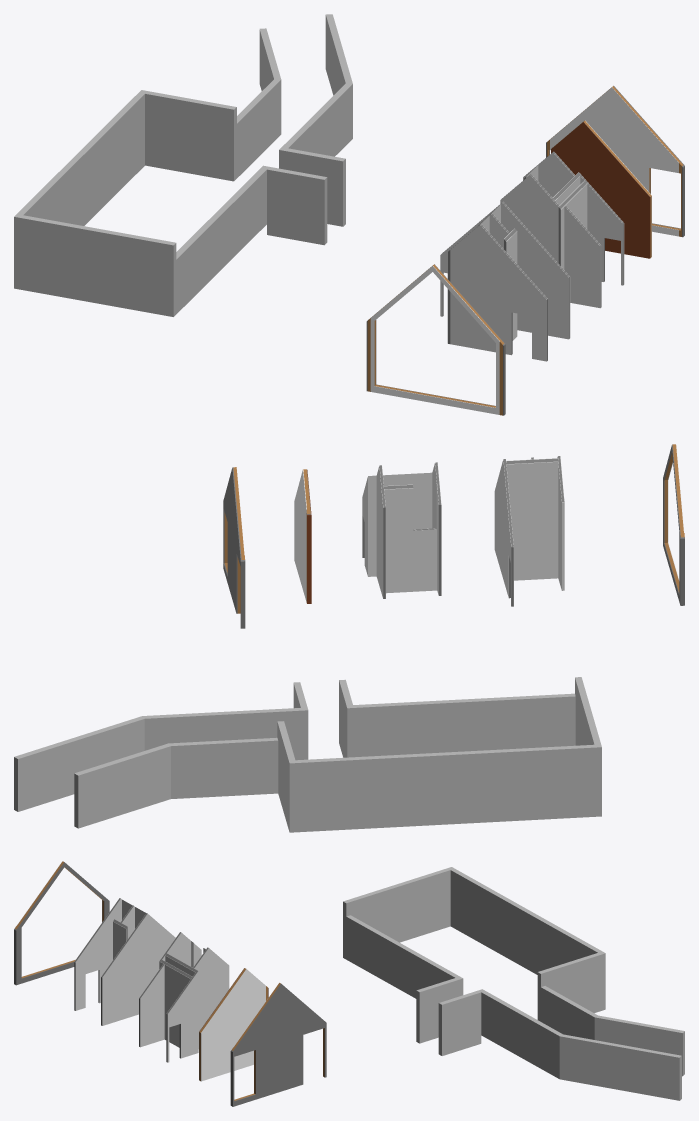
File: rac_basic_sample_project_Level_2_IfcWallStandardCase.dae
3 views of the same model, one above another, from view 1: azimuth 30°, elevation 25°; view 2: azimuth 150°, elevation 25°; view 3: azimuth 270°, elevation 25° (orthographic). The views are drawn at different scales.
Visible parts, largest first — view 1: 3_T6_Ndub6XO_ef59N4DQX, 0lntrd6l1AGwfcnKJK5qmF, 3_T6_Ndub6XO_ef59N4DRY, 3_T6_Ndub6XO_ef59N4DOF, 28i3i5WDD8Ju0YHnzXOzdu, 2WEjrPJHb8ux9RBvH$Iq0S, 3lLx0gNe59vvExhby0Bfew, 0lntrd6l1AGwfcnKJK5r28, 38BWtPCUX0VgAKmmGnoLFm, 39NeMDaWPEh9g8$CxWwg0v, 2WEjrPJHb8ux9RBvH$Iq3g, 2wm6PO6TX9IxXwLP21Hz10 (+8 smaller); view 2: 3_T6_Ndub6XO_ef59N4DRY, 2WEjrPJHb8ux9RBvH$Iq0S, 2WEjrPJHb8ux9RBvH$IqPC, 2WEjrPJHb8ux9RBvH$IqSV, 1jq3WIaE92UPTHNxmrWm6f, 2WEjrPJHb8ux9RBvH$IqQR, 2WEjrPJHb8ux9RBvH$Iq3g, 2wm6PO6TX9IxXwLP21Hyl3, 3lLx0gNe59vvExhby0Bfew, 0nbT7BoYn1WRd0KTefRTuG, 0lntrd6l1AGwfcnKJK5r28, 28i3i5WDD8Ju0YHnzXOzdu (+8 smaller); view 3: 3_T6_Ndub6XO_ef59N4DRY, 3lLx0gNe59vvExhby0Bfew, 3_T6_Ndub6XO_ef59N4DQX, 2WEjrPJHb8ux9RBvH$IqSV, 0lntrd6l1AGwfcnKJK5r28, 2WEjrPJHb8ux9RBvH$Iq0S, 28i3i5WDD8Ju0YHnzXOzdu, 2WEjrPJHb8ux9RBvH$Iq3g, 3_T6_Ndub6XO_ef59N4DOF, 38BWtPCUX0VgAKmmGnoLCN, 0lntrd6l1AGwfcnKJK5qmF, 2WEjrPJHb8ux9RBvH$IqPC (+9 smaller).
Part boxes in pixels (<box>): 3_T6_Ndub6XO_ef59N4DQX: <box>14,214,176,316</box>; 0lntrd6l1AGwfcnKJK5qmF: <box>447,224,547,361</box>; 3_T6_Ndub6XO_ef59N4DRY: <box>17,90,147,225</box>; 3_T6_Ndub6XO_ef59N4DOF: <box>145,91,236,181</box>; 28i3i5WDD8Ju0YHnzXOzdu: <box>551,120,651,258</box>; 2WEjrPJHb8ux9RBvH$Iq0S: <box>176,165,269,313</box>; 3lLx0gNe59vvExhby0Bfew: <box>546,85,684,237</box>; 0lntrd6l1AGwfcnKJK5r28: <box>440,201,570,339</box>; 38BWtPCUX0VgAKmmGnoLFm: <box>267,167,327,245</box>; 39NeMDaWPEh9g8$CxWwg0v: <box>366,264,505,415</box>; 2WEjrPJHb8ux9RBvH$Iq3g: <box>279,78,352,169</box>; 2wm6PO6TX9IxXwLP21Hz10: <box>564,205,601,308</box>; 3_T6_Ndub6XO_ef59N4DRY: <box>288,744,595,832</box>; 2WEjrPJHb8ux9RBvH$Iq0S: <box>346,693,575,757</box>; 2WEjrPJHb8ux9RBvH$IqPC: <box>158,737,278,798</box>; 2WEjrPJHb8ux9RBvH$IqSV: <box>14,719,144,811</box>; 1jq3WIaE92UPTHNxmrWm6f: <box>506,458,558,580</box>; 2WEjrPJHb8ux9RBvH$IqQR: <box>74,746,170,828</box>; 2WEjrPJHb8ux9RBvH$Iq3g: <box>132,707,308,760</box>; 2wm6PO6TX9IxXwLP21Hyl3: <box>384,483,437,593</box>; 3lLx0gNe59vvExhby0Bfew: <box>223,467,245,628</box>; 0nbT7BoYn1WRd0KTefRTuG: <box>370,472,432,576</box>; 0lntrd6l1AGwfcnKJK5r28: <box>494,459,513,606</box>; 28i3i5WDD8Ju0YHnzXOzdu: <box>294,469,311,603</box>; 3_T6_Ndub6XO_ef59N4DRY: <box>450,869,605,1010</box>; 3lLx0gNe59vvExhby0Bfew: <box>230,982,326,1106</box>; 3_T6_Ndub6XO_ef59N4DQX: <box>343,867,454,959</box>; 2WEjrPJHb8ux9RBvH$IqSV: <box>564,1034,681,1100</box>; 0lntrd6l1AGwfcnKJK5r28: <box>101,913,175,1025</box>; 2WEjrPJHb8ux9RBvH$Iq0S: <box>346,915,463,998</box>; 28i3i5WDD8Ju0YHnzXOzdu: <box>199,968,268,1081</box>; 2WEjrPJHb8ux9RBvH$Iq3g: <box>478,989,569,1080</box>; 3_T6_Ndub6XO_ef59N4DOF: <box>537,953,601,1021</box>; 38BWtPCUX0VgAKmmGnoLCN: <box>438,990,481,1055</box>; 0lntrd6l1AGwfcnKJK5qmF: <box>74,898,121,1010</box>; 2WEjrPJHb8ux9RBvH$IqPC: <box>541,986,604,1041</box>.
Size of the model in its own units: 26.36 by 36.7 by 8.2.
